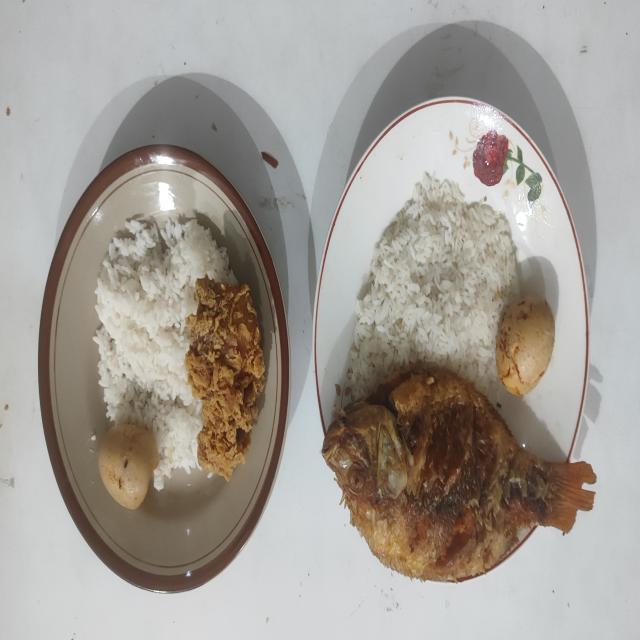ikan_mujair: (322, 367, 595, 581)
nasi_putih: (344, 172, 521, 400), (92, 216, 235, 488)
